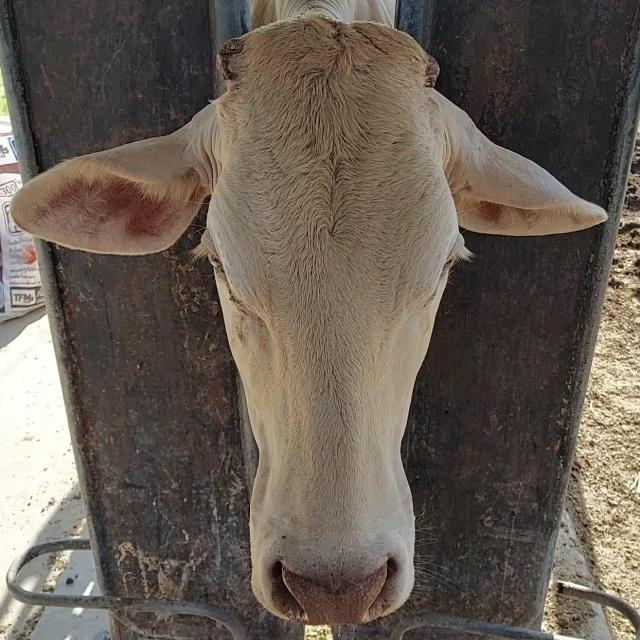cowFace: (208, 16, 465, 620)
